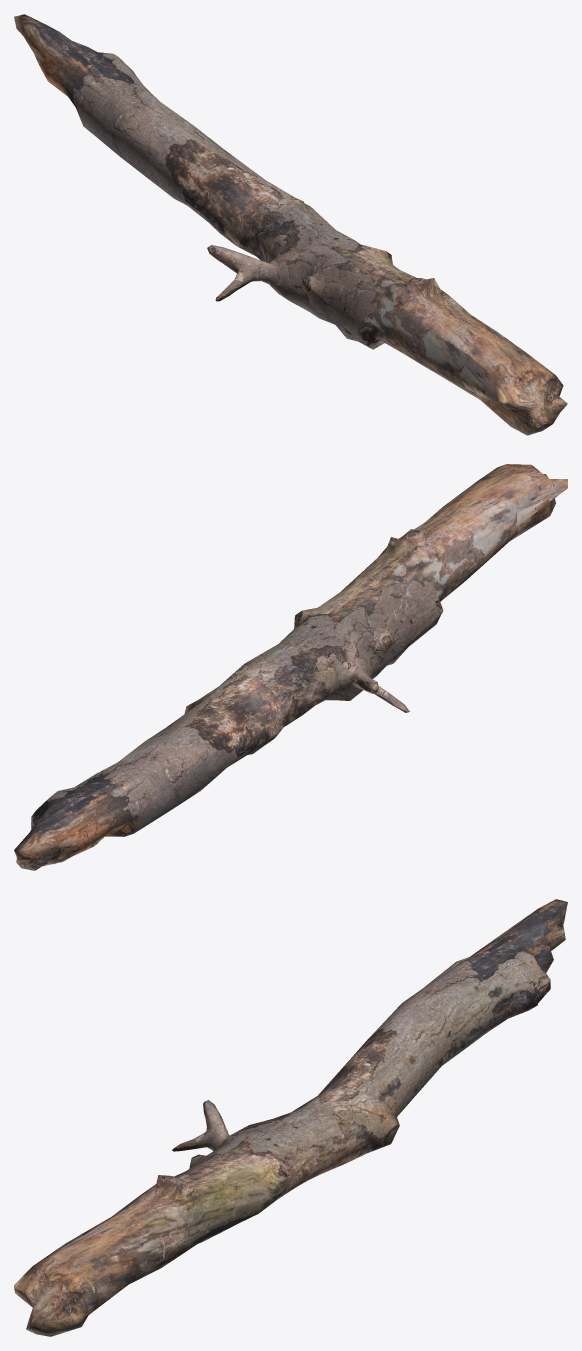
The model's file is SM_FallenTree_02_01.fbx.
The picture shows the model from 3 angles, top to bottom: view 1: azimuth 30°, elevation 25°; view 2: azimuth 150°, elevation 25°; view 3: azimuth 330°, elevation 25°; orthographic projection. The views are drawn at different scales.
Visible parts, largest first — view 1: sm_FallenTree_02_01_LOD0; view 2: sm_FallenTree_02_01_LOD0; view 3: sm_FallenTree_02_01_LOD0.
Boxes of the visible parts, x1=… form: sm_FallenTree_02_01_LOD0: x1=14, y1=14, x2=567, y2=435; sm_FallenTree_02_01_LOD0: x1=14, y1=464, x2=567, y2=870; sm_FallenTree_02_01_LOD0: x1=14, y1=899, x2=567, y2=1336.
Bounding box in the file's own units: 272 × 45.73 × 26.68.
